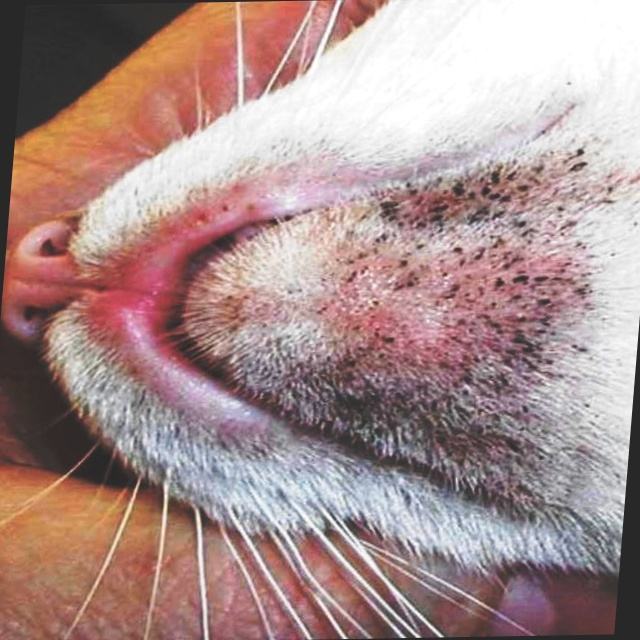acne: (291, 143, 605, 458)
